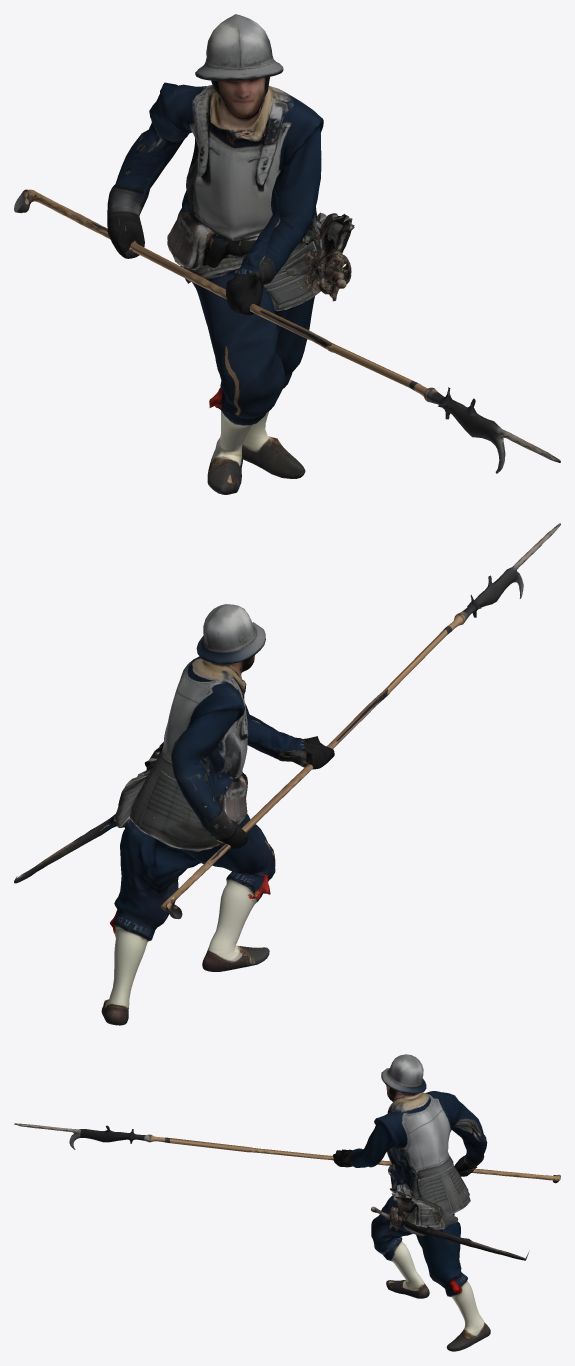
File: PIKEMAN_Swe_Atk.glb
3 renders of one model, top to bottom at view 1: azimuth 30°, elevation 25°; view 2: azimuth 150°, elevation 25°; view 3: azimuth 270°, elevation 25°, orthographic. The views are drawn at different scales.
Visible parts, largest first — view 1: Mesh0.006; view 2: Mesh0.006; view 3: Mesh0.006.
Boxes of the visible parts, x1,y1,x2,y2 form: Mesh0.006: (14, 14, 560, 494); Mesh0.006: (14, 523, 560, 1025); Mesh0.006: (14, 1054, 560, 1351).
Size of the model in its own units: 0.729 by 1.47 by 2.7.
Materials: 1 (1 with a texture image).
